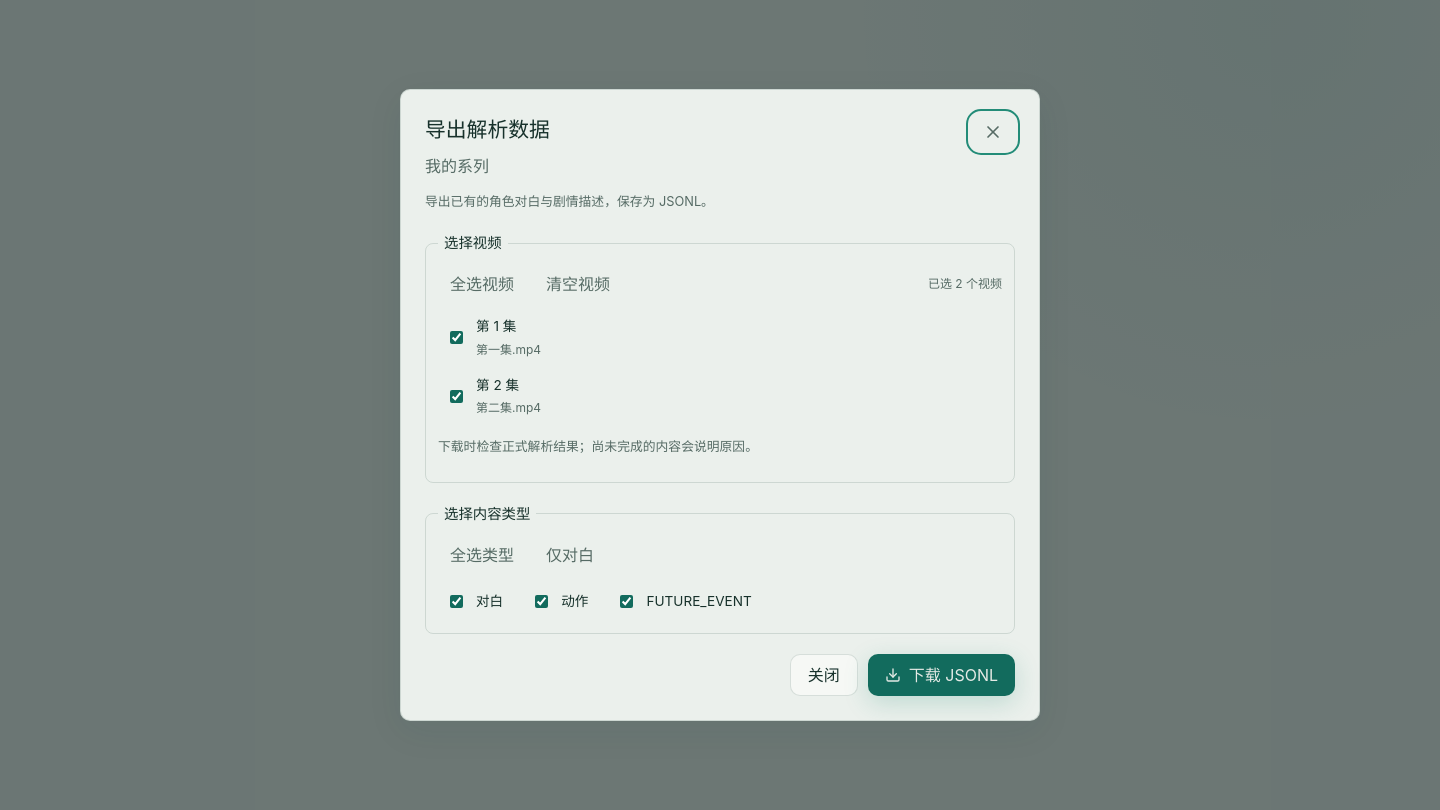
Test case: ParseExportDialog › selects every series video regardless of playback or index state and uses server-provided types
Expected: the dialog "导出解析数据" is shown, x1=400 y1=89 x2=1040 y2=721
Expected: the checkbox labelled "第 2 集 第二集.mp4" is checked, x1=450 y1=390 x2=463 y2=403
Click the button "下载 JSONL": (941, 675) x1=868 y1=654 x2=1015 y2=696
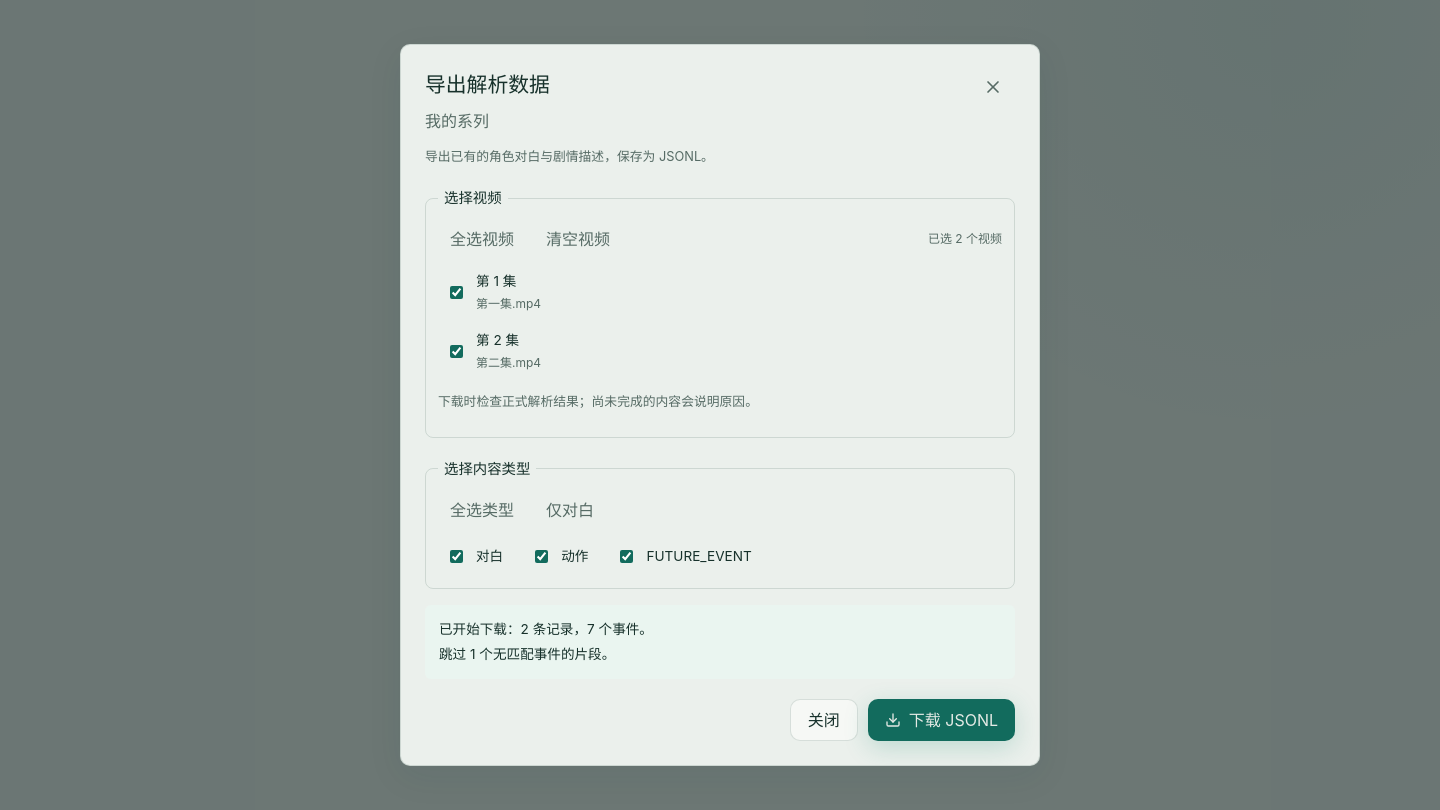
Now the message shows "2 条记录，7 个事件", box x1=439 y1=621 x2=653 y2=637
Now the message shows "跳过 1 个无匹配事件", box x1=439 y1=646 x2=615 y2=662
